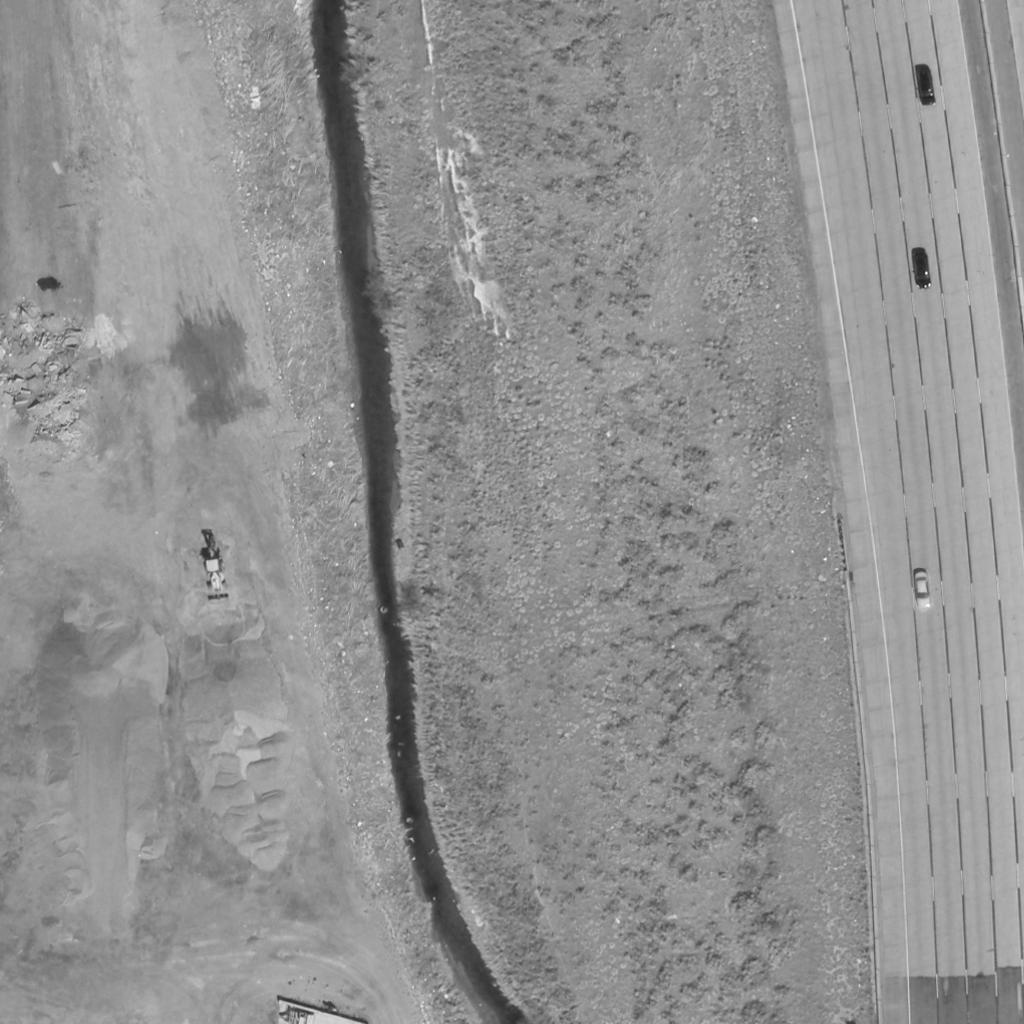vehicle: (195, 531, 231, 605), (913, 62, 939, 108), (911, 246, 931, 290), (911, 571, 933, 609)
